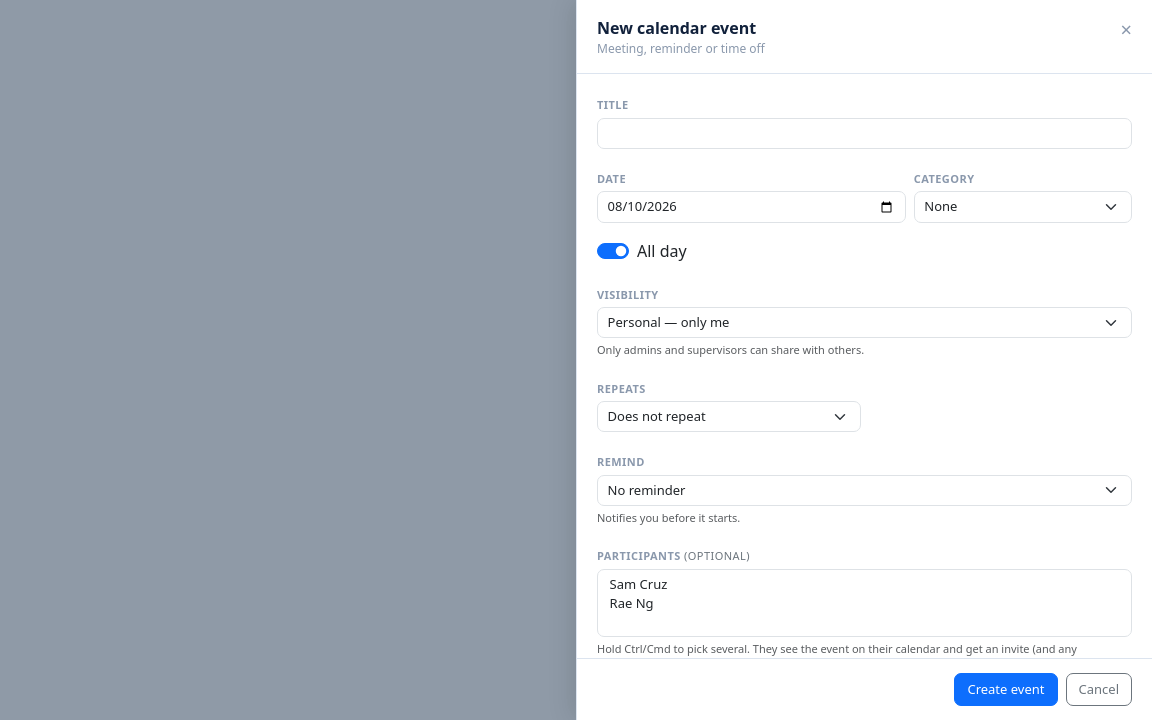
NewCalendarEventModal › requires a title
Click the button "Create event": click(1006, 690) left=954, top=673, right=1058, bottom=706
(page scrolled)
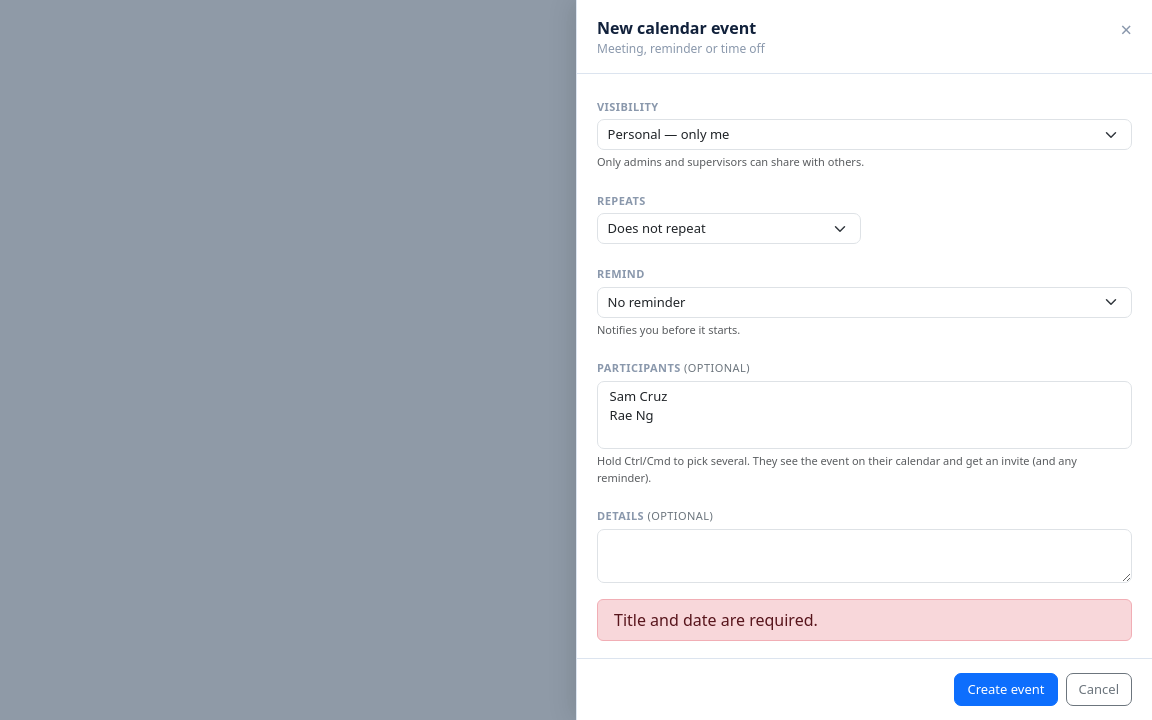
expect the text "Title and date are required." is shown: met, box left=597, top=599, right=1132, bottom=641
